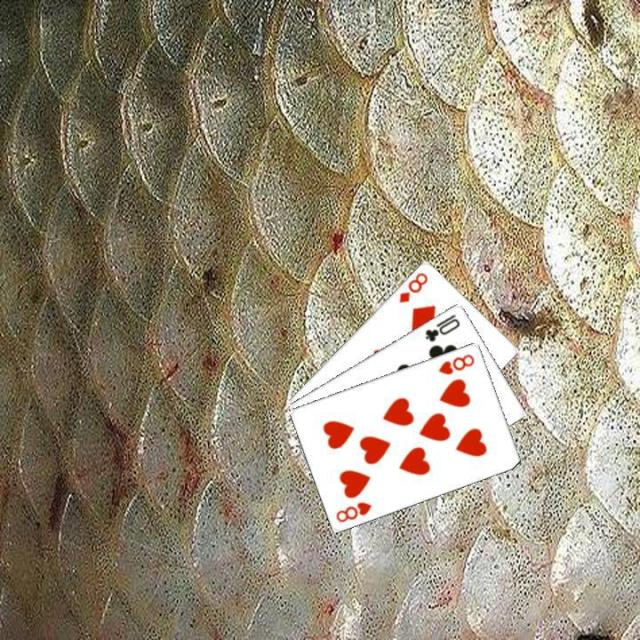10C: (422, 310, 462, 343)
8D: (395, 267, 429, 305)
8H: (434, 349, 476, 376), (332, 498, 373, 524)
